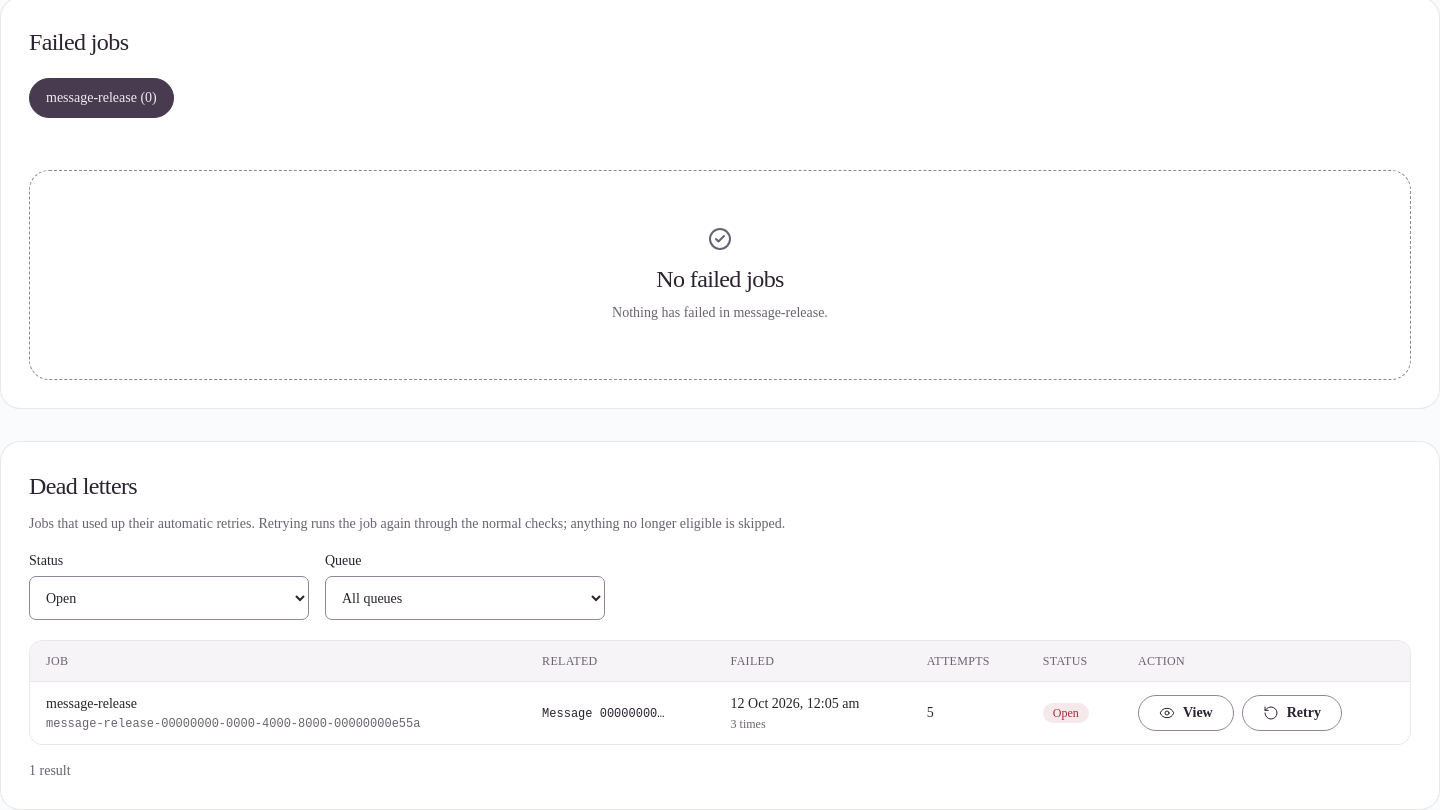
it: Dead letters › a 409 (someone else retried it) is shown in the dialog
This screenshot has width=1440, height=810.
(page scrolled)
Click the button "Retry" at (1292, 713), box [1242, 695, 1342, 731]
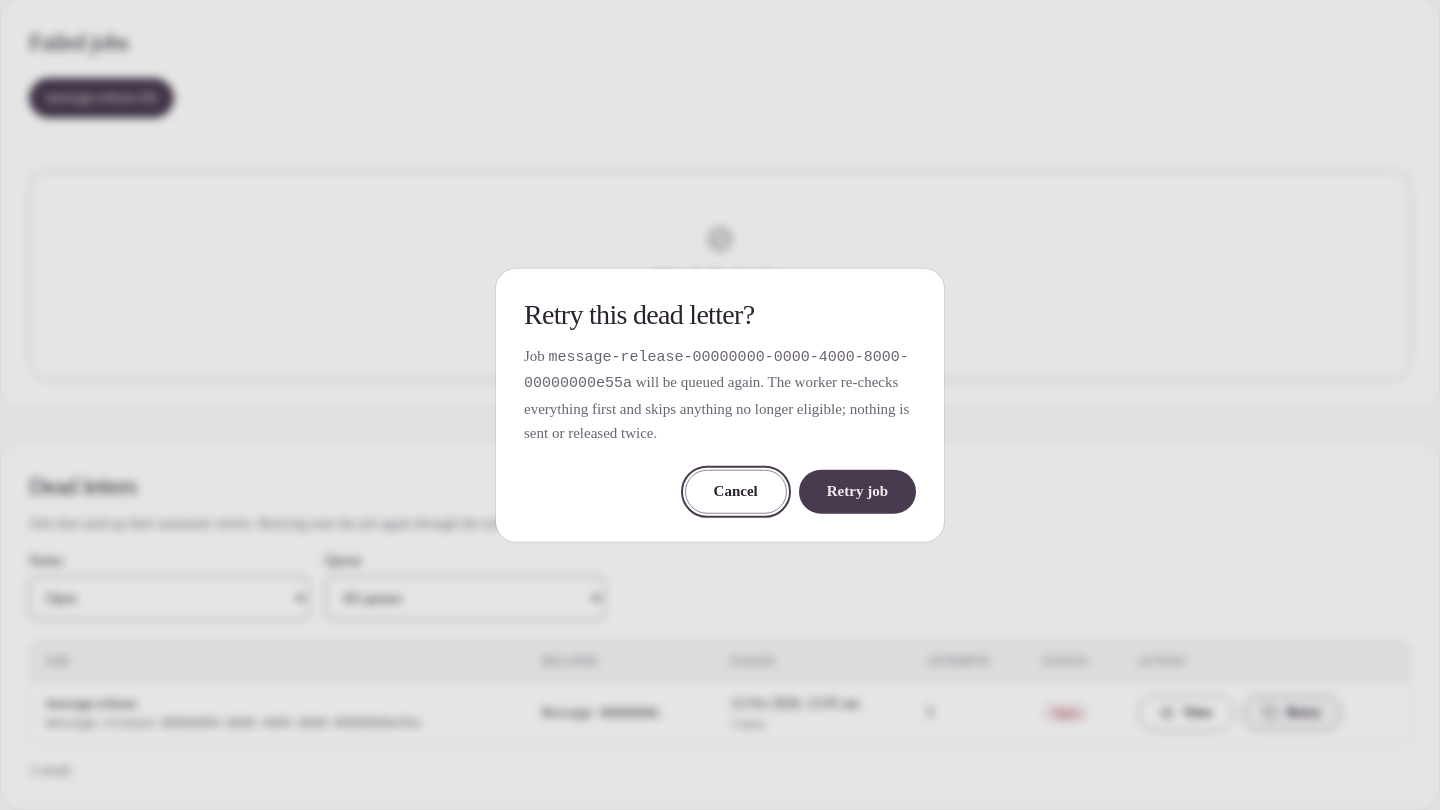
Click the button "Retry job" at (857, 491), box [799, 469, 916, 513]
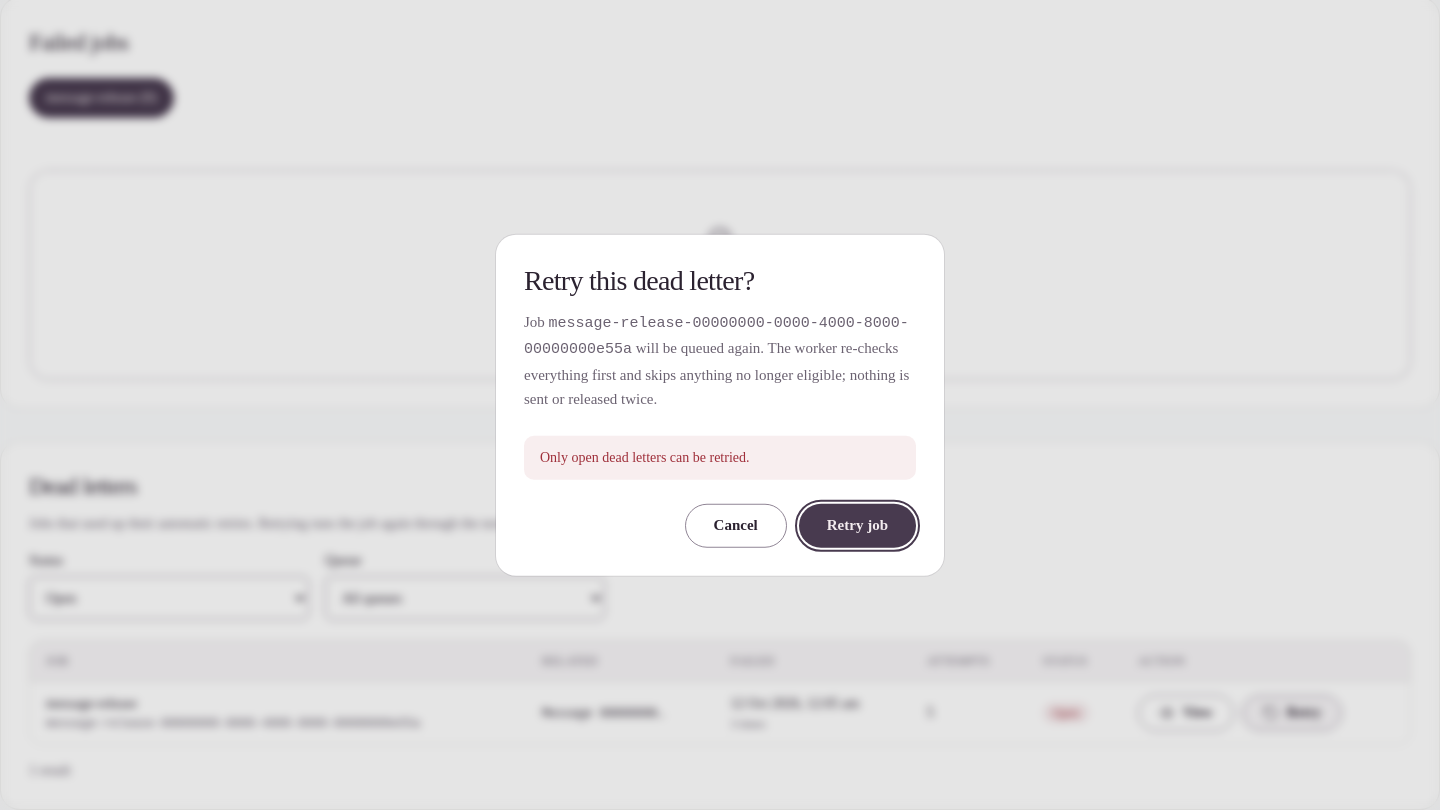
Result: the text "Only open dead letters can be retried." is shown at [524, 435, 916, 479]
